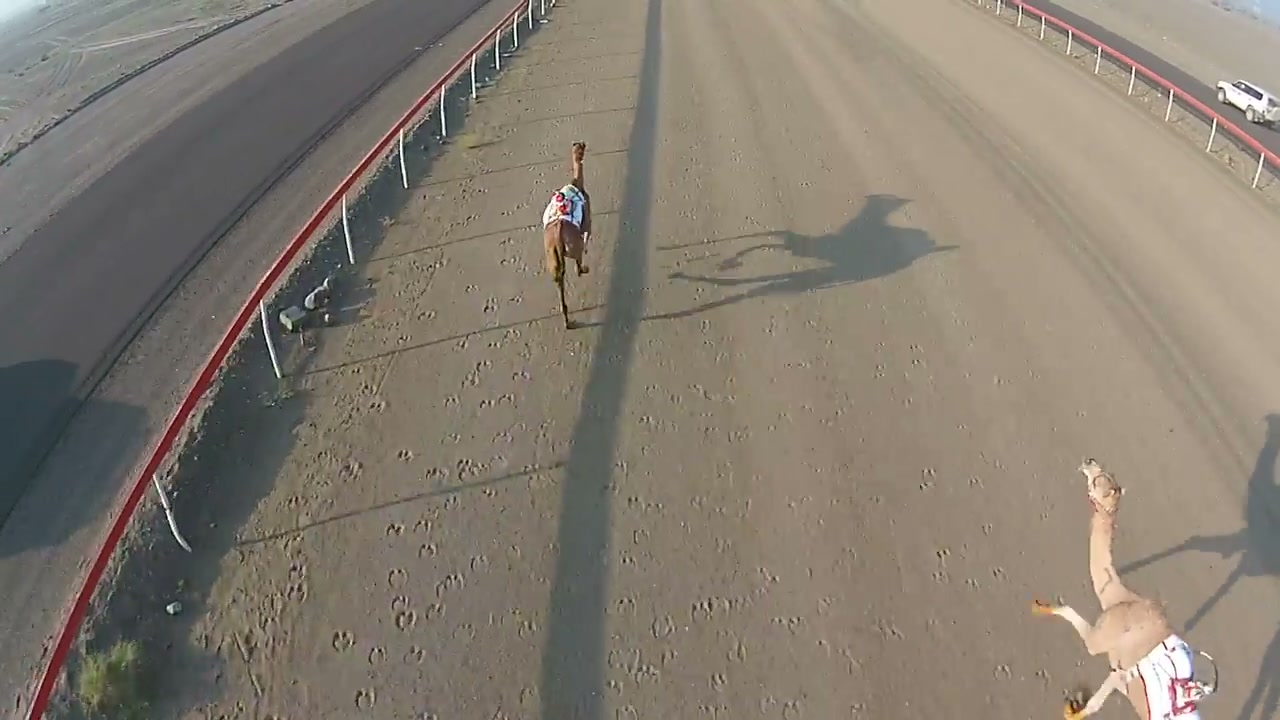animal_foot_print: (326, 287, 557, 719)
